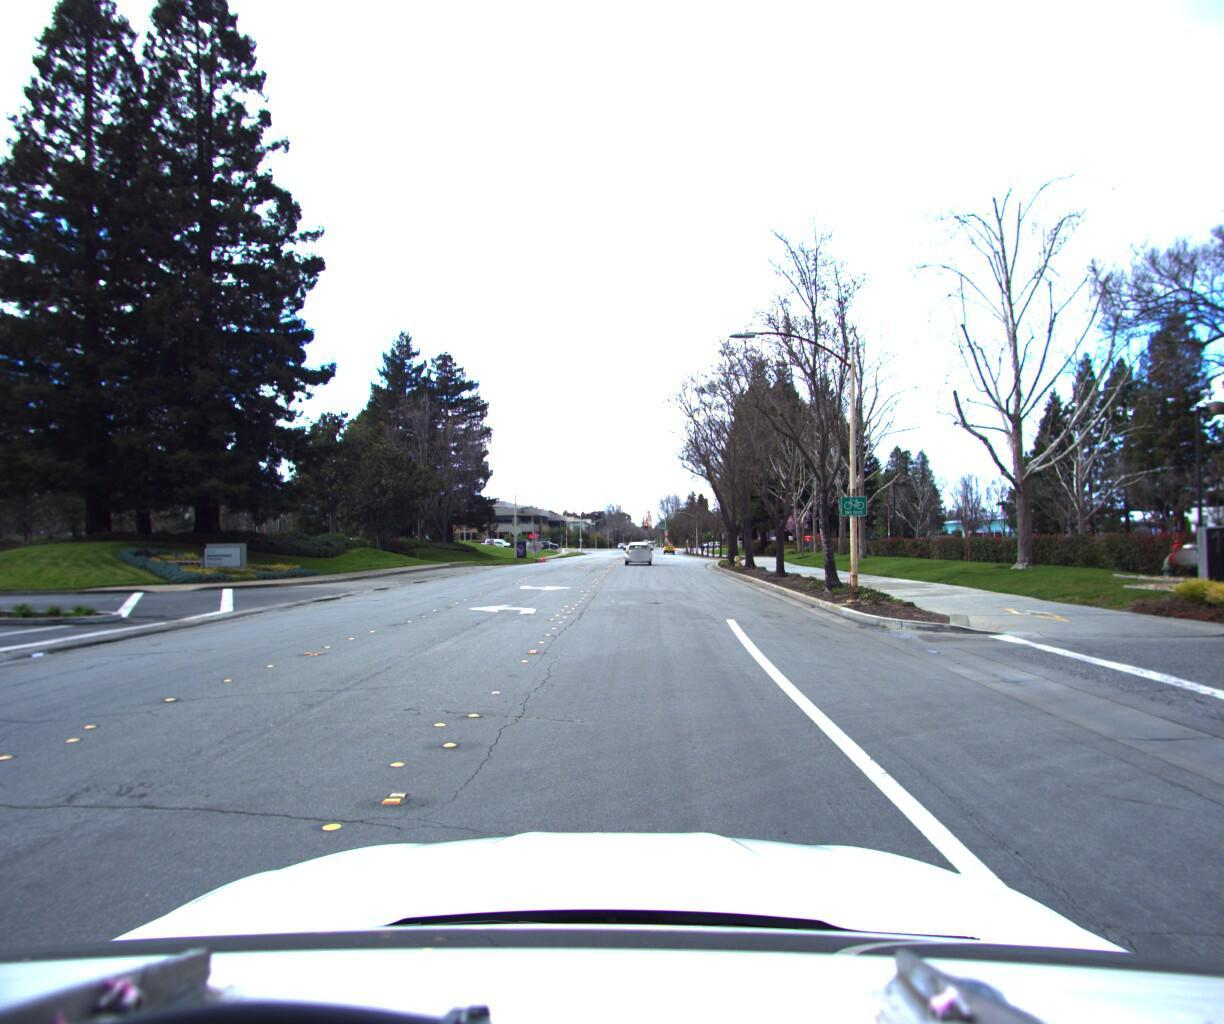car: (621, 535, 652, 561)
